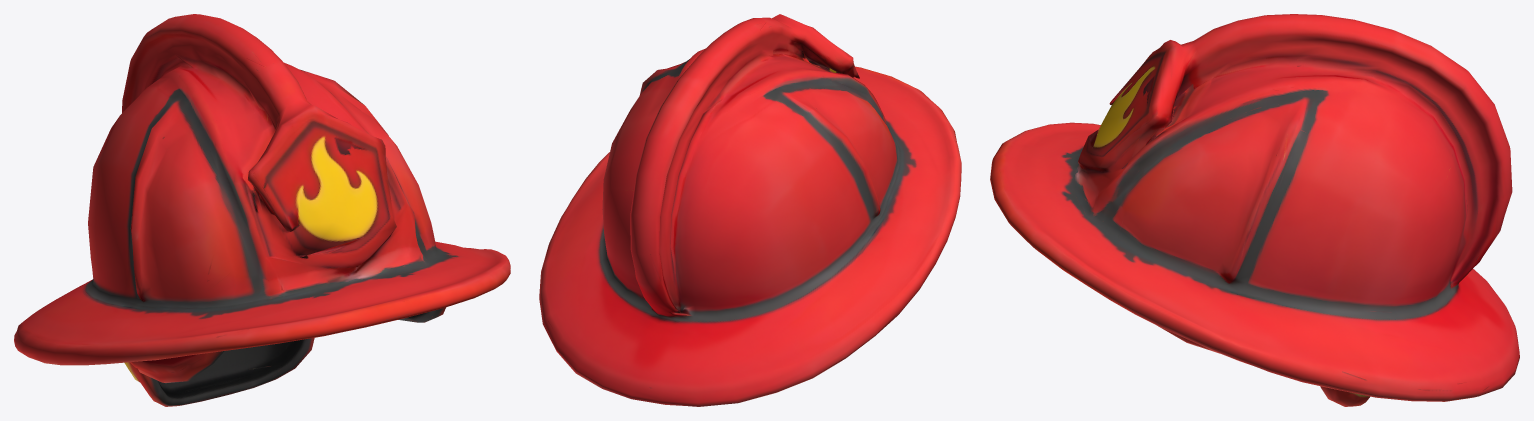
The model's file is Meshy_AI_Cartoony_Fire_Fighter_0130112825_texture.fbx.
3 views of the same model, side by side, from view 1: azimuth 30°, elevation 25°; view 2: azimuth 150°, elevation 25°; view 3: azimuth 270°, elevation 25° (orthographic). The views are drawn at different scales.
Visible parts, largest first — view 1: Mesh_0; view 2: Mesh_0; view 3: Mesh_0.
Boxes of the visible parts, x1,y1,x2,y2 form: Mesh_0: (14, 14, 510, 406); Mesh_0: (539, 14, 961, 406); Mesh_0: (990, 14, 1519, 406).
Size of the model in its own units: 173 by 156 by 200.
Materials: 1 (1 with a texture image).
